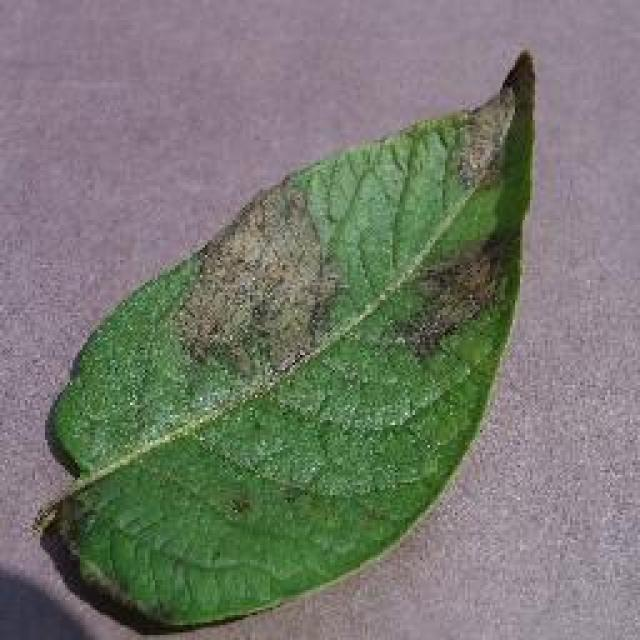late_blight: (35, 45, 543, 635)
